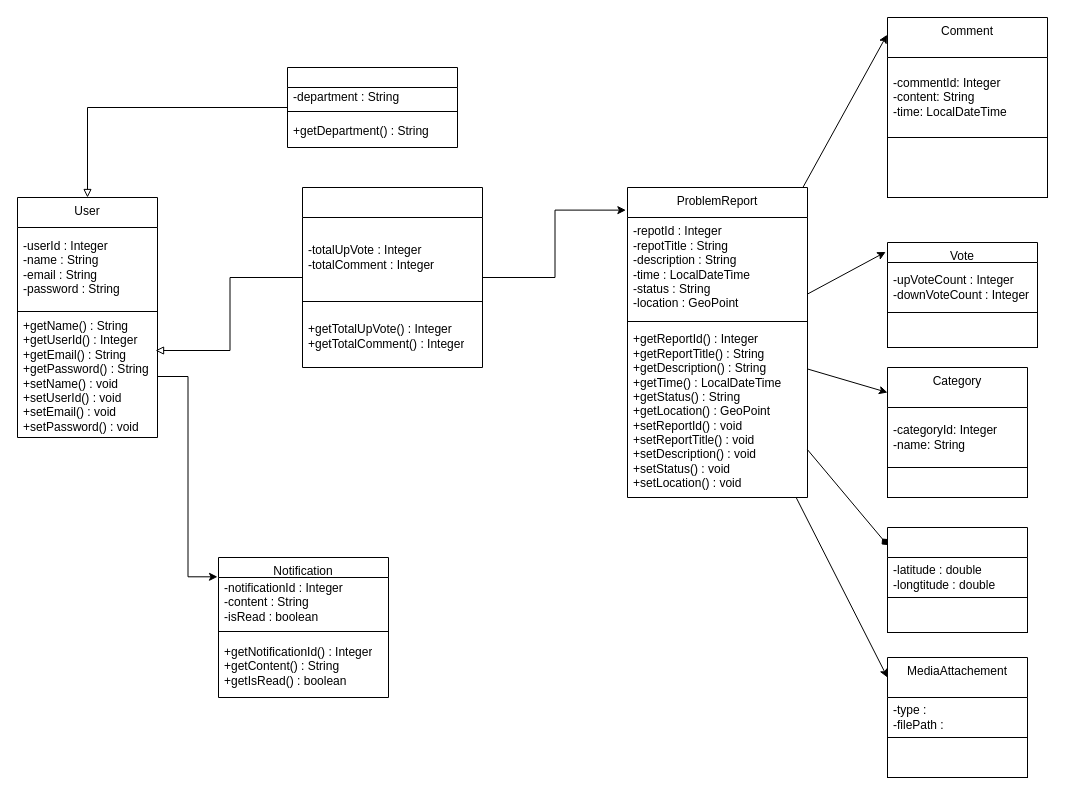
This 1065x795 diagram has some shape labels left out. The box of each missing label's shape, as (x1, y1, x2, y2) in pixels:
Authority: (286, 66, 458, 148)
GeoPoint: (886, 526, 1028, 598)
Student: (302, 186, 482, 368)
